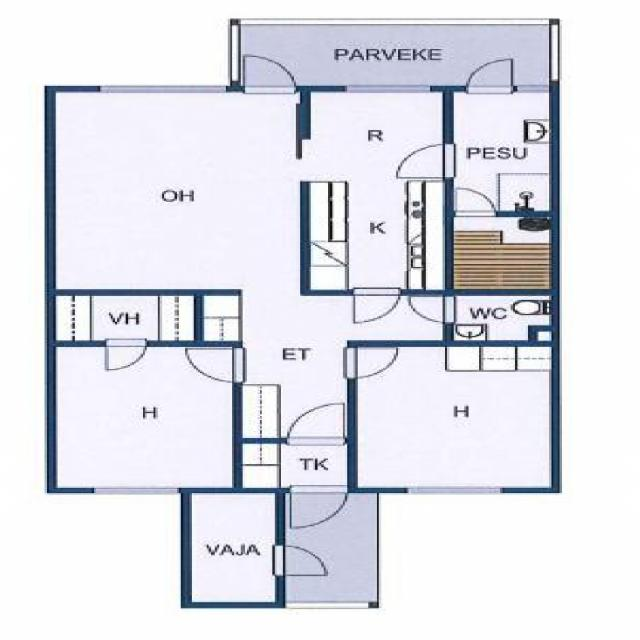door: (291, 402, 345, 444), (292, 487, 346, 529), (392, 146, 453, 178), (246, 54, 294, 91), (352, 289, 400, 326), (466, 54, 513, 90), (348, 348, 403, 378), (186, 350, 242, 379), (276, 545, 330, 575), (105, 341, 144, 373), (458, 188, 496, 219), (406, 298, 453, 322)
